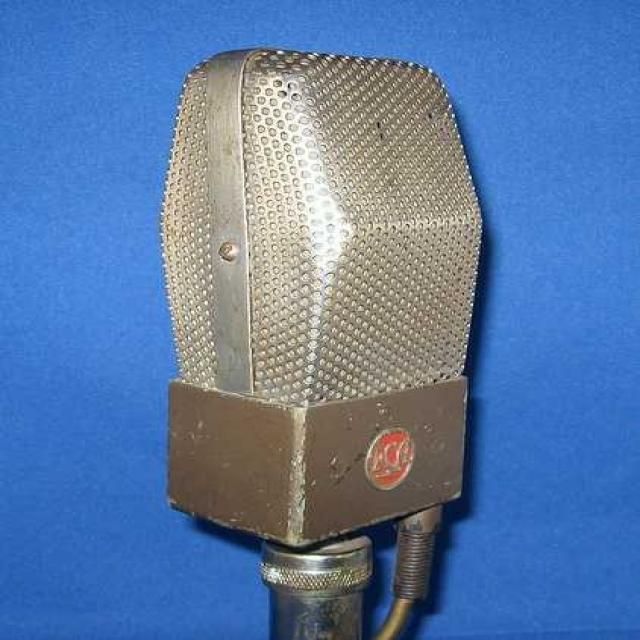microphone: (168, 46, 484, 632)
